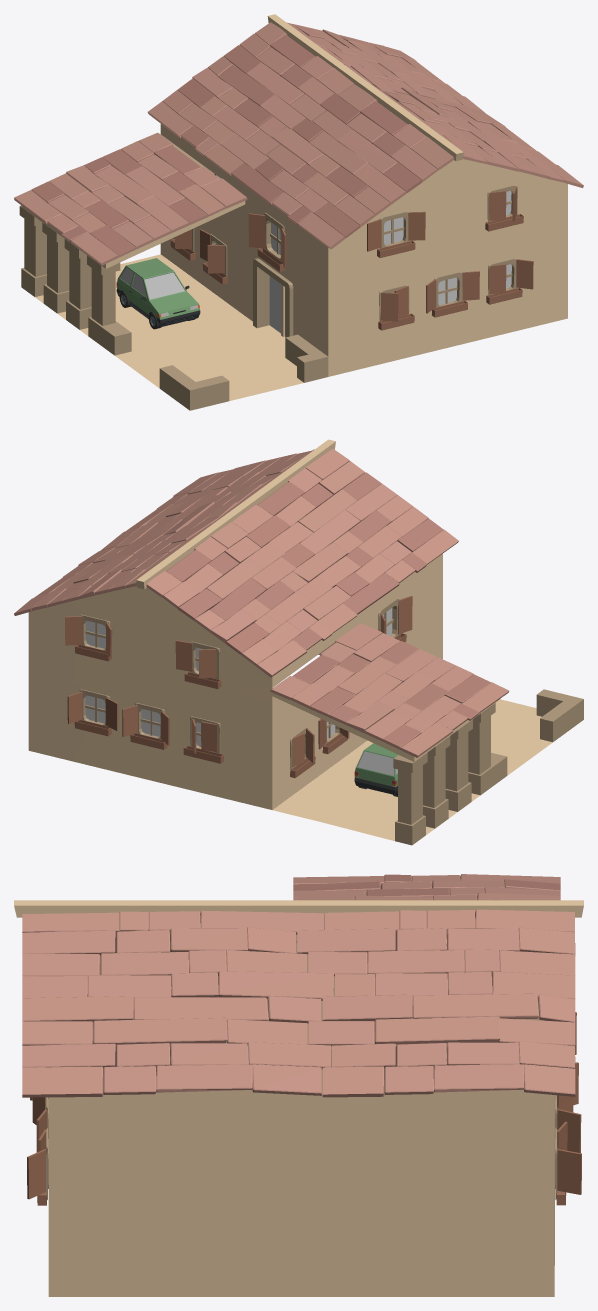
The model's file is Maison_03_Miroir.fbx.
The picture shows the model from 3 angles, top to bottom: view 1: azimuth 30°, elevation 25°; view 2: azimuth 150°, elevation 25°; view 3: azimuth 270°, elevation 25°; orthographic projection. The views are drawn at different scales.
Visible parts, largest first — view 1: Maison_03_Miroir; view 2: Maison_03_Miroir; view 3: Maison_03_Miroir.
Part boxes in pixels (x1,y1,x2,y2): Maison_03_Miroir: (14,14,583,410); Maison_03_Miroir: (14,439,583,845); Maison_03_Miroir: (14,874,583,1296).
Size of the model in its own units: 2035 by 999 by 1684.
1 material, 1 textured.
